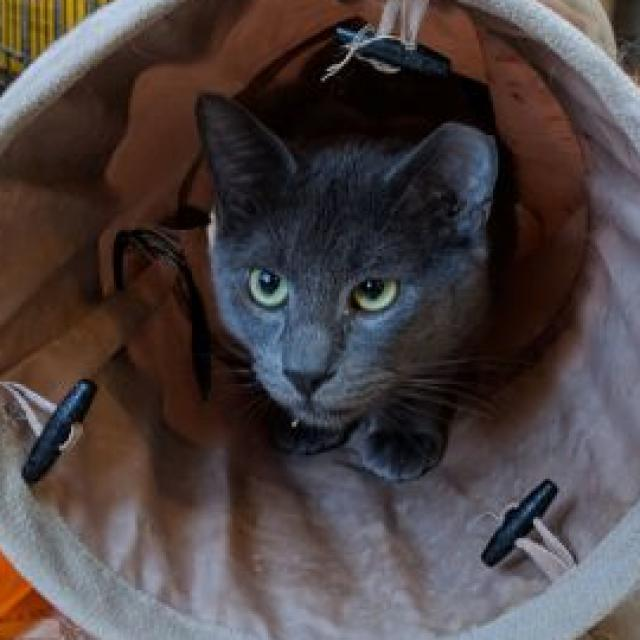Russian Blue: (188, 78, 512, 501)
